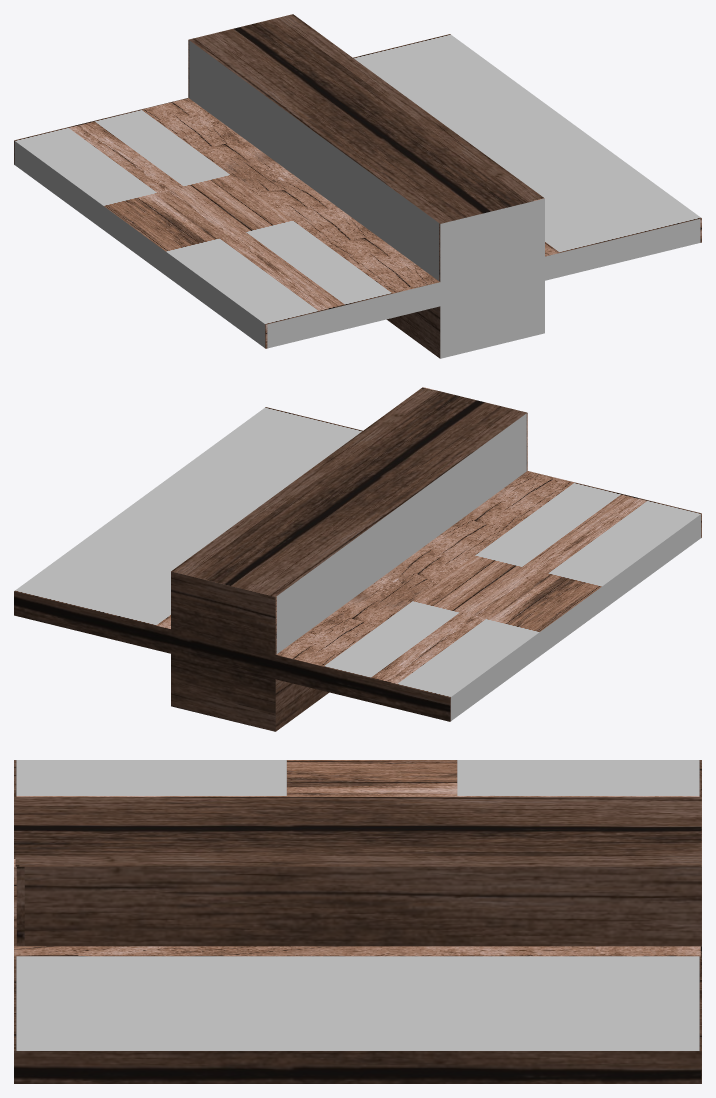
File: Techo1.obj
3 renders of one model, top to bottom at view 1: azimuth 30°, elevation 25°; view 2: azimuth 150°, elevation 25°; view 3: azimuth 270°, elevation 25°, orthographic. The views are drawn at different scales.
Visible parts, largest first — view 1: Cube; view 2: Cube; view 3: Cube.
Boxes of the visible parts, box(x1,y1,x2,y2) form: Cube: box(14, 14, 701, 358); Cube: box(14, 387, 701, 731); Cube: box(14, 760, 701, 1083).
Size of the model in its own units: 2 by 0.5911 by 2.
1 material, 1 textured.
